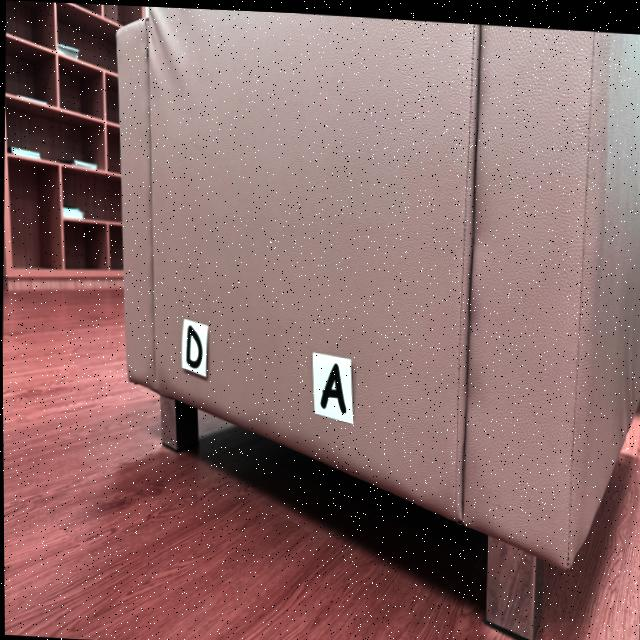A: (320, 360, 345, 411)
D: (185, 323, 202, 366)
